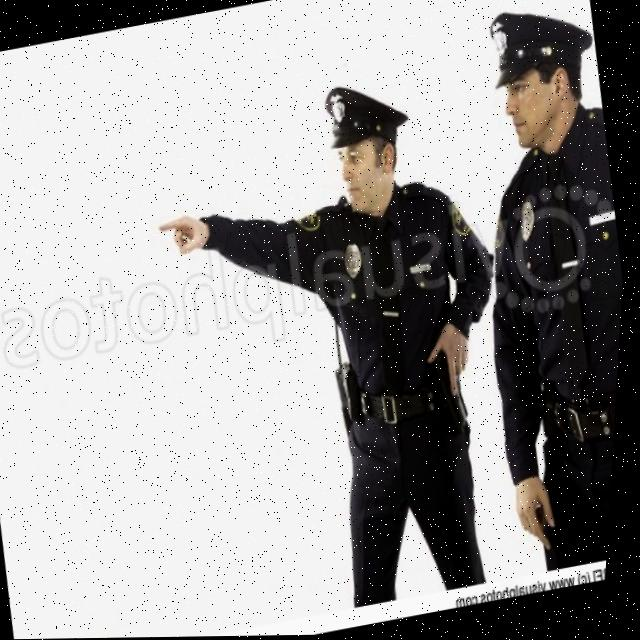pistol: (436, 352, 461, 409)
